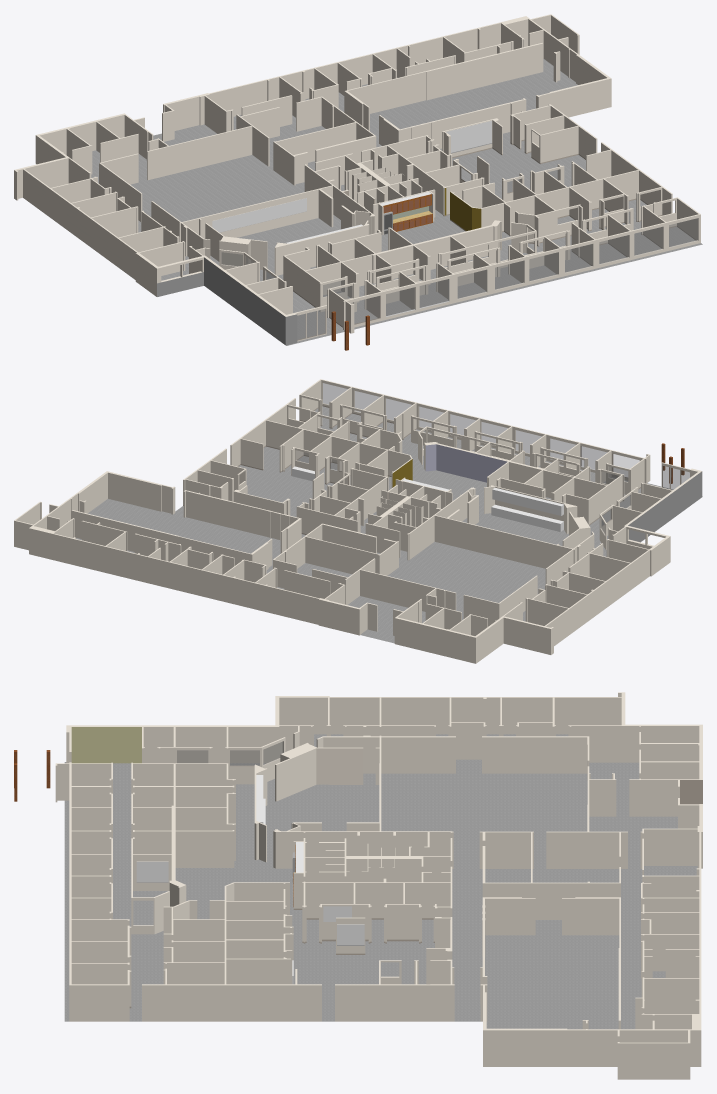
The model's file is willowgarage.gltf.
3 views of the same model, one above another, from view 1: azimuth 30°, elevation 25°; view 2: azimuth 150°, elevation 25°; view 3: azimuth 270°, elevation 25° (orthographic). The views are drawn at different scales.
Visible parts, largest first — view 1: SketchUp, ID134, ID44, ID265, ID333, ID247, ID38, ID209, ID32, ID18, ID235, ID339 (+29 smaller); view 2: SketchUp, ID44, ID134, ID265, ID333, ID209, ID247, ID32, ID235, ID128, ID18, ID153 (+12 smaller); view 3: SketchUp, ID134, ID44, ID333, ID265, ID247, ID235, ID209, ID339, ID153, ID32, ID18 (+9 smaller).
Boxes of the visible parts, box(x1,y1,x2,y2) form: SketchUp: box(91, 59, 702, 345); ID134: box(14, 113, 326, 341); ID44: box(162, 14, 611, 141); ID265: box(327, 197, 700, 333); ID333: box(450, 142, 672, 245); ID247: box(283, 220, 536, 311); ID38: box(344, 43, 543, 130); ID209: box(151, 164, 374, 256); ID32: box(273, 96, 376, 185); ID18: box(147, 107, 279, 180); ID235: box(361, 135, 484, 215); ID339: box(510, 104, 597, 162); SketchUp: box(76, 406, 702, 643); ID44: box(14, 471, 377, 635); ID134: box(393, 462, 701, 663); ID265: box(299, 379, 650, 495); ID333: box(230, 398, 412, 487); ID209: box(407, 487, 594, 585); ID247: box(418, 426, 624, 524); ID32: box(273, 523, 398, 588); ID235: box(296, 468, 388, 534); ID128: box(183, 490, 301, 553); ID18: box(312, 558, 456, 620); ID153: box(365, 477, 452, 557); SketchUp: box(64, 734, 697, 1029); ID134: box(66, 692, 702, 816); ID44: box(480, 798, 702, 1079); ID333: box(142, 882, 321, 1021); ID265: box(55, 762, 131, 1021); ID247: box(131, 762, 235, 934); ID235: box(302, 866, 452, 942); ID209: box(273, 735, 455, 868); ID339: box(335, 959, 454, 1021); ID153: box(293, 838, 452, 908); ID32: box(479, 831, 620, 919); ID18: box(546, 766, 627, 868).
Bounding box in the file's own units: 58.63 × 2.84 × 48.62.
383 materials, 34 textured.
